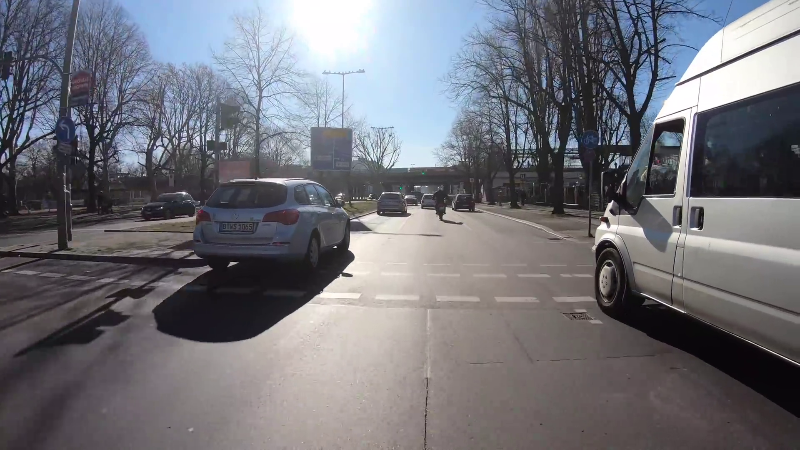Plate: (217, 219, 254, 233)
